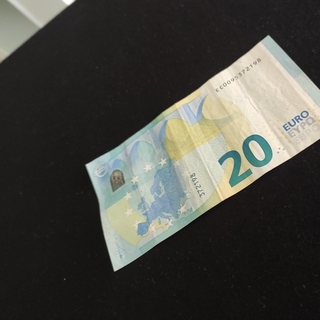20EUROBack: (84, 34, 320, 272)
